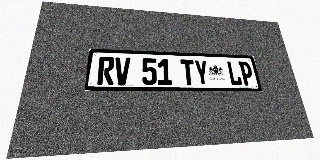1: (157, 58, 172, 85)
5: (142, 58, 157, 85)
L: (226, 61, 243, 85)
P: (238, 61, 255, 86)
R: (97, 56, 115, 85)
T: (180, 59, 196, 85)
V: (114, 57, 130, 85)
Y: (194, 60, 210, 85)
